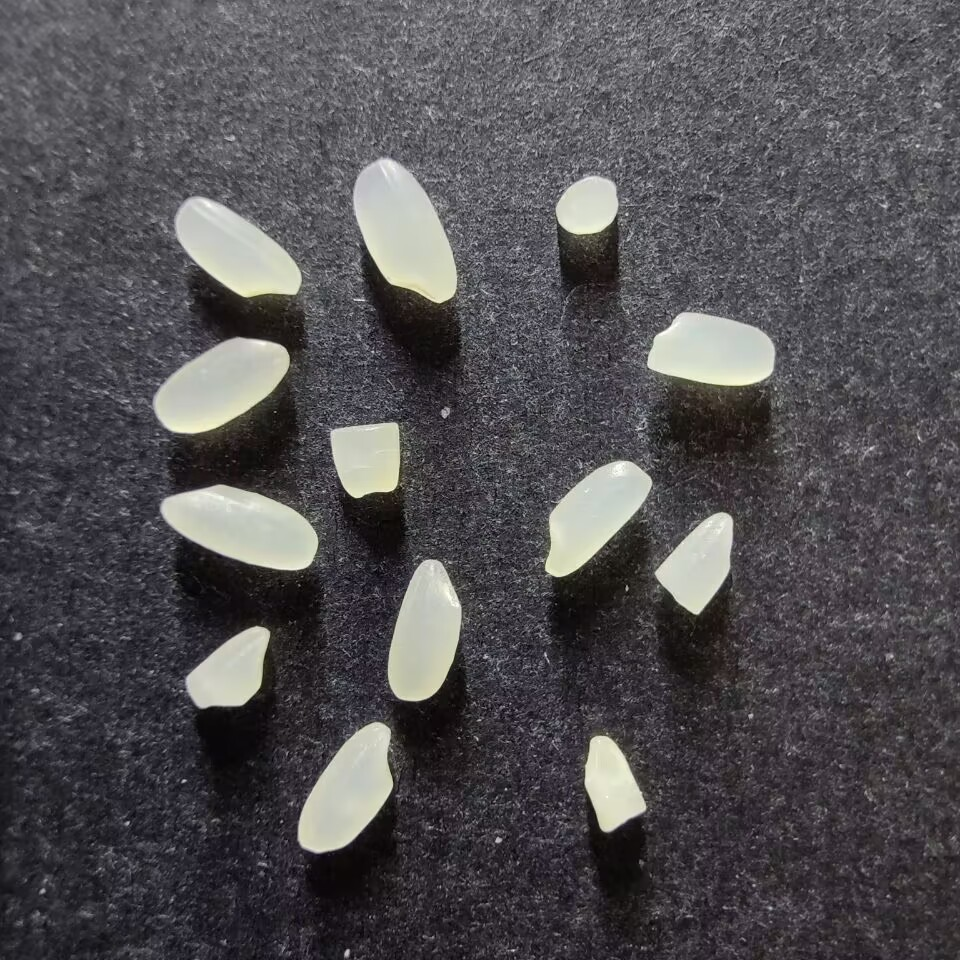broken: (653, 511, 734, 616), (184, 624, 270, 709), (583, 735, 646, 833), (329, 422, 401, 497), (554, 176, 619, 234)
rice: (351, 158, 458, 304), (159, 482, 317, 571), (152, 336, 289, 434), (174, 196, 301, 299), (544, 459, 653, 579), (296, 720, 394, 853), (386, 558, 460, 702), (646, 311, 775, 386)
